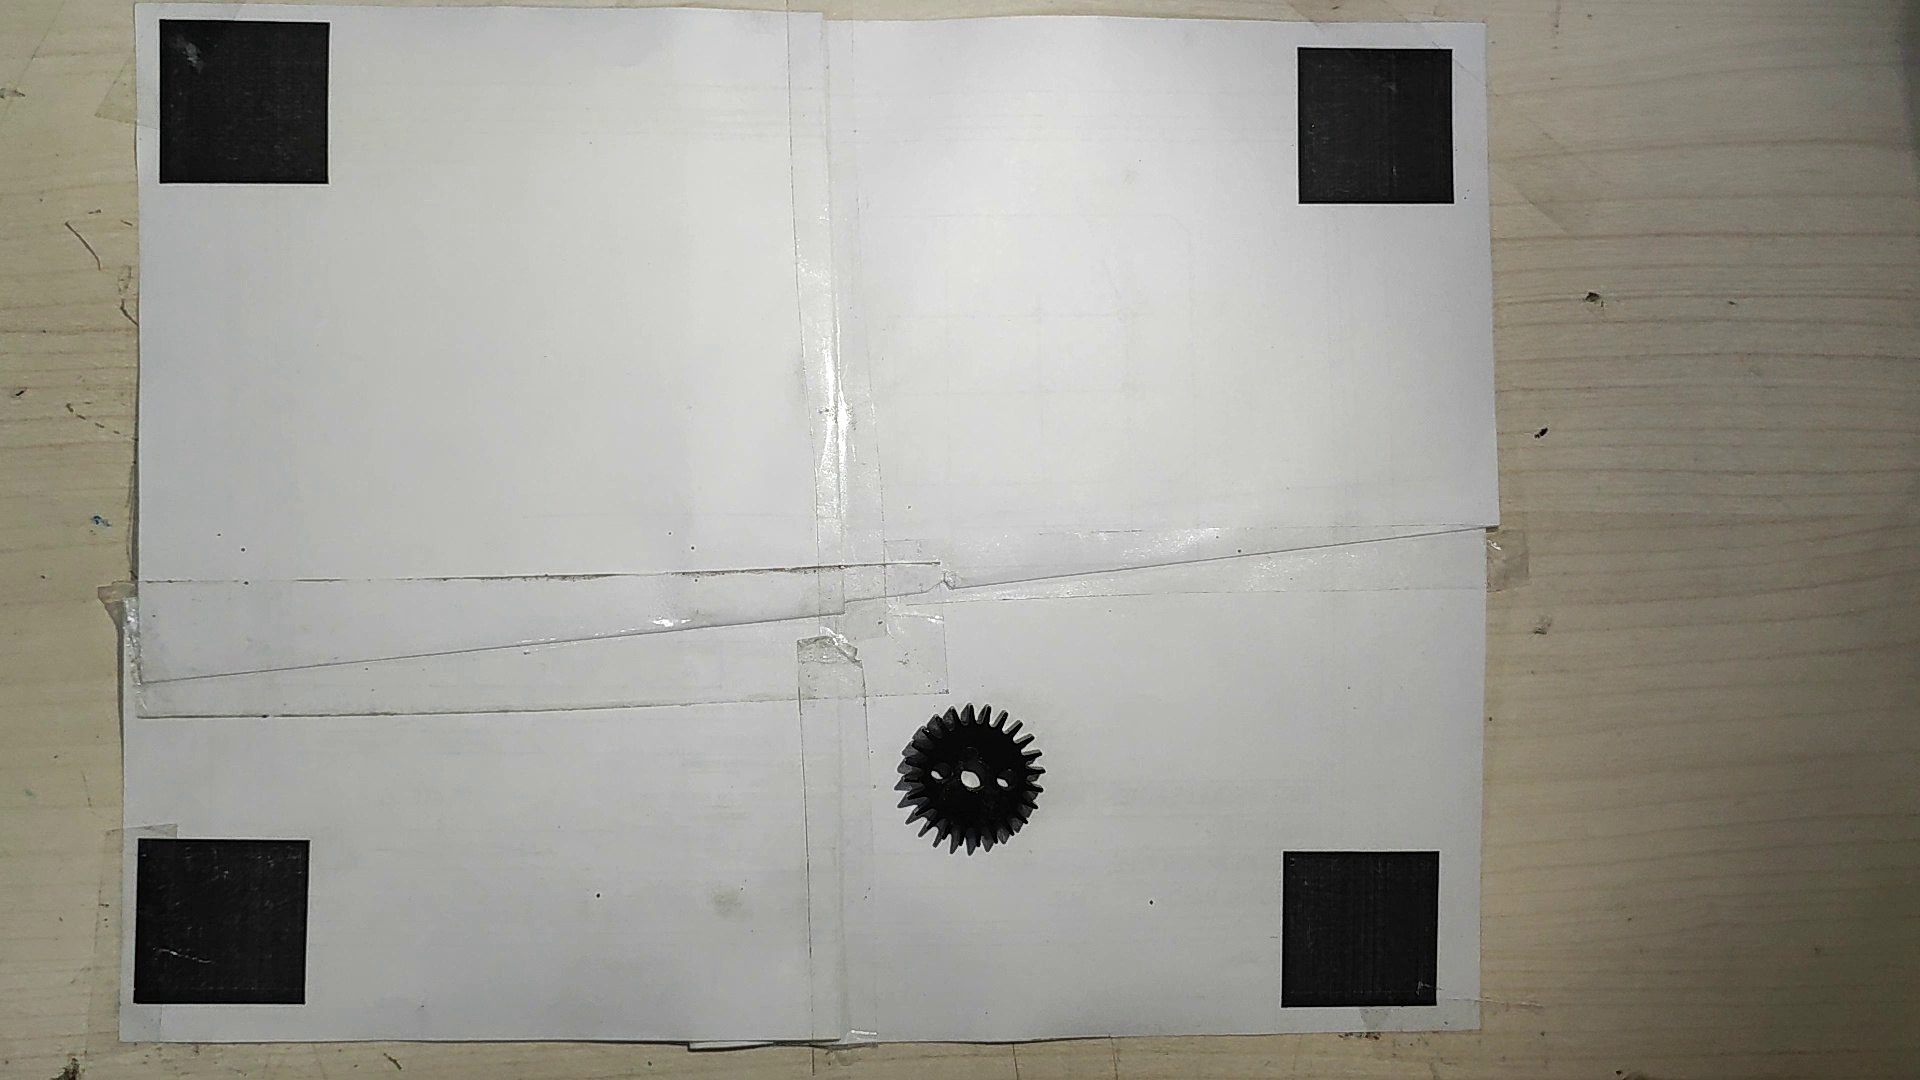Gear: (890, 699, 1042, 857)
